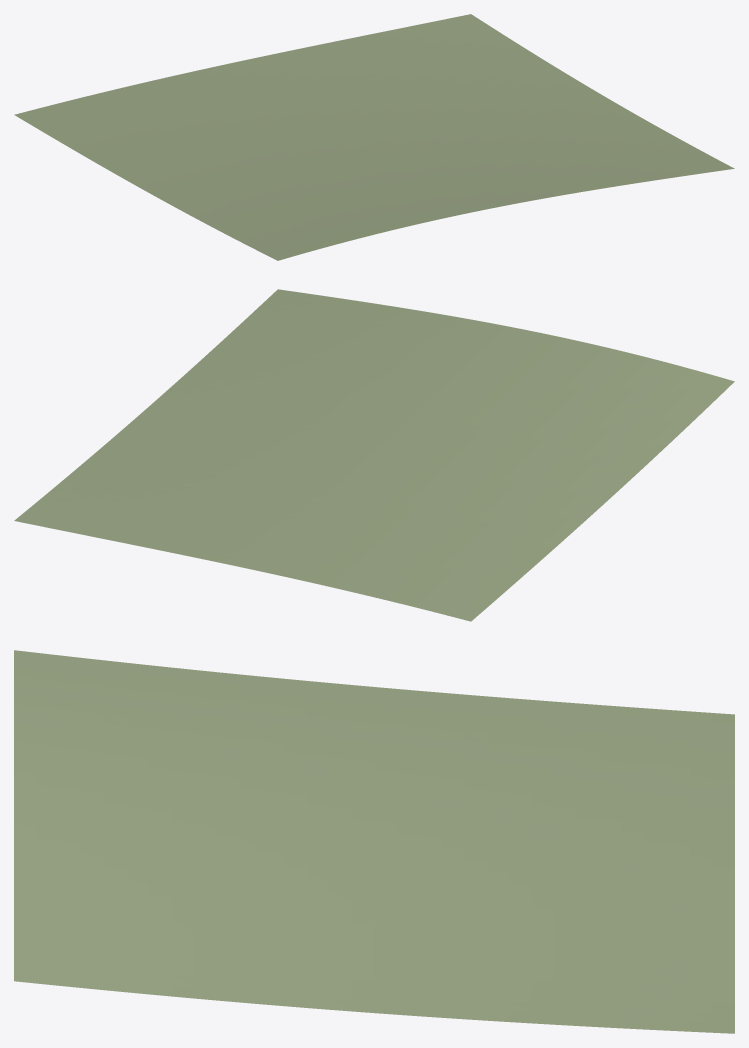
Rendered from expanse-17-15.glb.
The picture shows the model from 3 angles, top to bottom: view 1: azimuth 30°, elevation 25°; view 2: azimuth 150°, elevation 25°; view 3: azimuth 270°, elevation 25°; orthographic projection. The views are drawn at different scales.
Parts seen in each view (by area): view 1: expanse-17-15; view 2: expanse-17-15; view 3: expanse-17-15.
Part boxes in pixels (x1,y1,x2,y2): expanse-17-15: (14, 14, 734, 260); expanse-17-15: (14, 289, 734, 621); expanse-17-15: (14, 650, 734, 1033).
Bounding box in the file's own units: 256 × 32.41 × 256.
